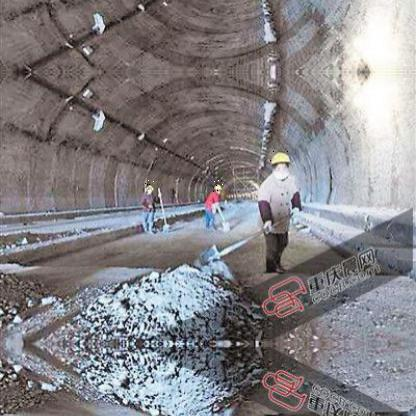safetyhelmet: (268, 150, 294, 172), (210, 180, 224, 194), (144, 180, 155, 192)
